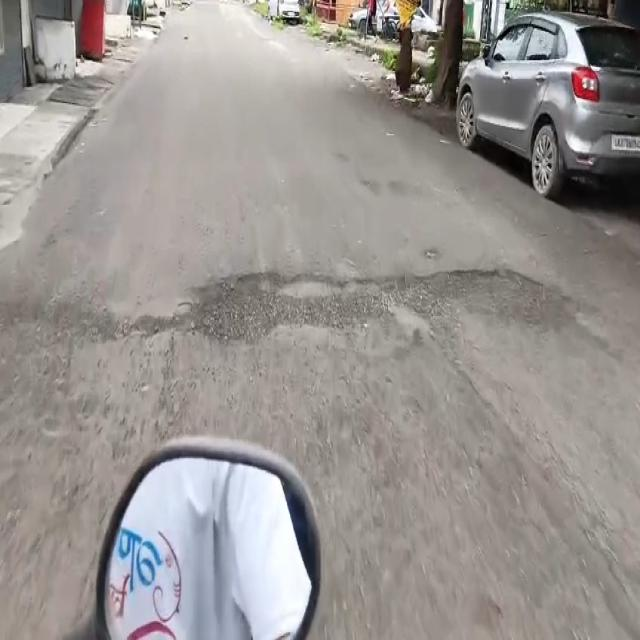road-pothole: (187, 271, 438, 351), (62, 299, 174, 461), (447, 268, 587, 327)
